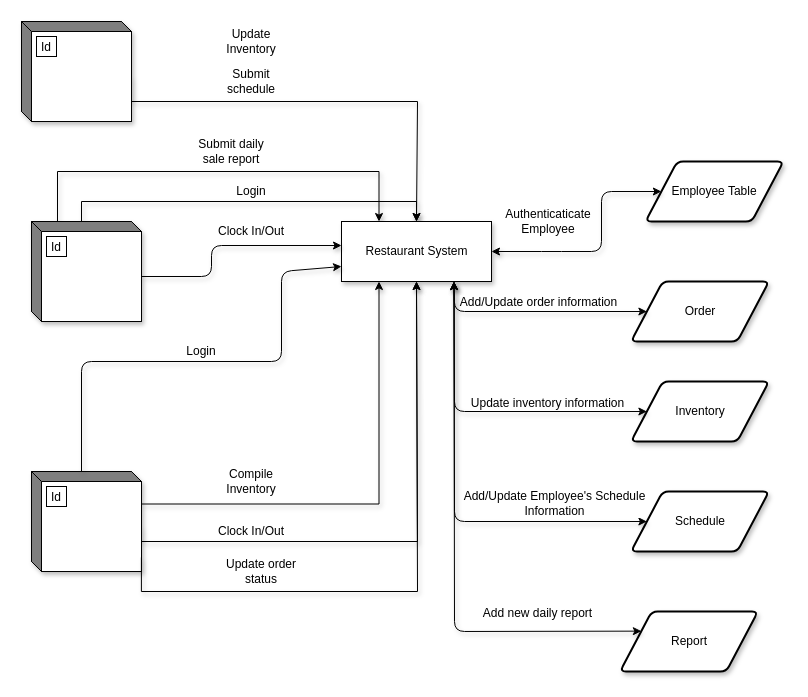
Some shapes in this 808 by 697 pixel diagram are drawn without their labels. The centre of each missing label's shape, as x and y in pixels:
"BOH Employee" goes at point (87, 522).
"FOH Employee" goes at point (87, 272).
"Manager" goes at point (77, 72).
